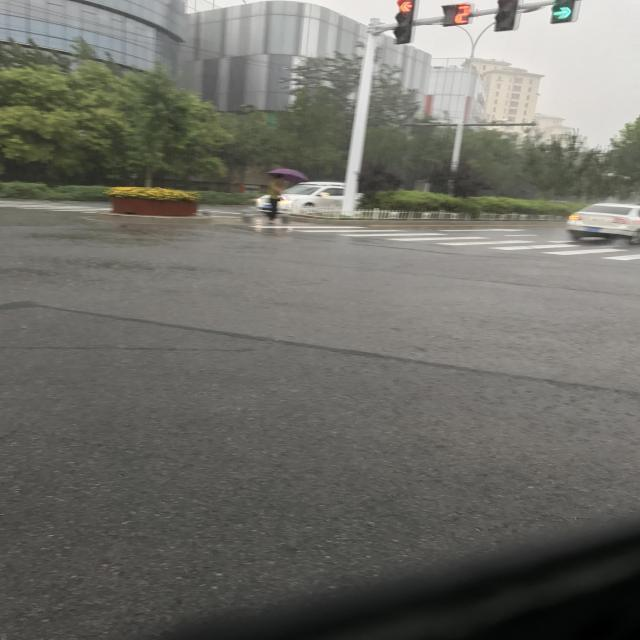car: (179, 270, 221, 385), (202, 0, 246, 75)
